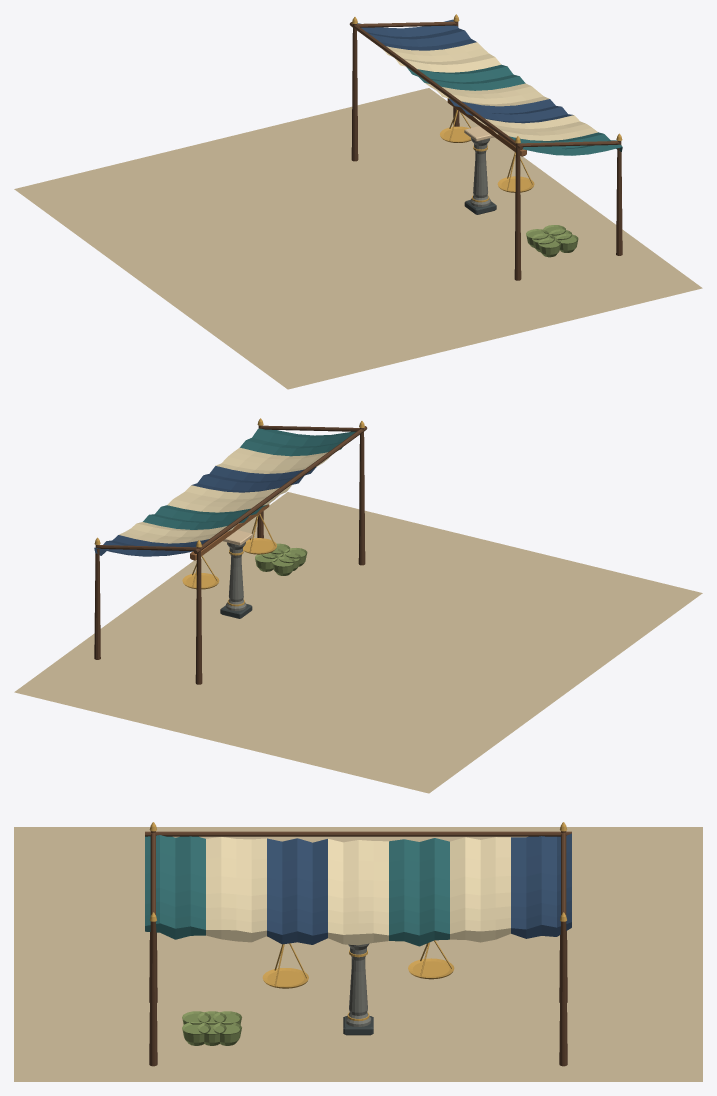
File: room-yard_n.glb
3 views of the same model, one above another, from view 1: azimuth 30°, elevation 25°; view 2: azimuth 150°, elevation 25°; view 3: azimuth 270°, elevation 25° (orthographic). The views are drawn at different scales.
Parts seen in each view (by area): view 1: Surveyed floor · room-yard_n, Scale Yard · weigh-house · linen, Scale Yard · weigh-house · timber, Scale Yard · weigh-house · indigo, Scale Yard · weigh-house · teal, Scale Yard · weigh-house · brass, Scale Yard · weigh-house · reed, Scale Yard · weigh-house · granite; view 2: Surveyed floor · room-yard_n, Scale Yard · weigh-house · linen, Scale Yard · weigh-house · timber, Scale Yard · weigh-house · teal, Scale Yard · weigh-house · indigo, Scale Yard · weigh-house · brass, Scale Yard · weigh-house · reed, Scale Yard · weigh-house · granite; view 3: Surveyed floor · room-yard_n, Scale Yard · weigh-house · linen, Scale Yard · weigh-house · indigo, Scale Yard · weigh-house · teal, Scale Yard · weigh-house · timber, Scale Yard · weigh-house · brass, Scale Yard · weigh-house · reed, Scale Yard · weigh-house · granite.
Part boxes in pixels (x1,y1,x2,y2): Surveyed floor · room-yard_n: (14, 88, 702, 389); Scale Yard · weigh-house · linen: (383, 42, 597, 140); Scale Yard · weigh-house · timber: (349, 21, 622, 280); Scale Yard · weigh-house · indigo: (357, 19, 573, 123); Scale Yard · weigh-house · teal: (406, 64, 622, 155); Scale Yard · weigh-house · brass: (352, 14, 622, 202); Scale Yard · weigh-house · reed: (526, 225, 578, 257); Scale Yard · weigh-house · granite: (470, 138, 490, 206); Surveyed floor · room-yard_n: (14, 492, 702, 793); Scale Yard · weigh-house · linen: (119, 447, 340, 543); Scale Yard · weigh-house · timber: (94, 425, 367, 684); Scale Yard · weigh-house · teal: (143, 428, 356, 529); Scale Yard · weigh-house · indigo: (94, 466, 316, 556); Scale Yard · weigh-house · brass: (94, 418, 364, 606); Scale Yard · weigh-house · reed: (255, 543, 307, 575); Scale Yard · weigh-house · granite: (226, 542, 246, 610); Surveyed floor · room-yard_n: (14, 827, 702, 1081); Scale Yard · weigh-house · linen: (206, 837, 510, 945); Scale Yard · weigh-house · indigo: (267, 833, 571, 944); Scale Yard · weigh-house · teal: (145, 835, 449, 946); Scale Yard · weigh-house · timber: (145, 831, 571, 1066); Scale Yard · weigh-house · brass: (149, 822, 567, 1021); Scale Yard · weigh-house · reed: (182, 1011, 241, 1045); Scale Yard · weigh-house · granite: (345, 943, 371, 1026).
Size of the model in its own units: 14 by 4.61 by 16.
